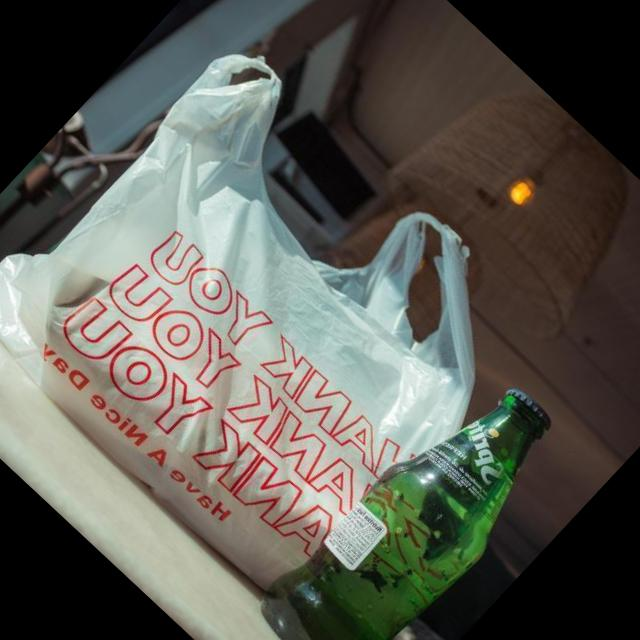KantongPlastik: (0, 5, 553, 617)
